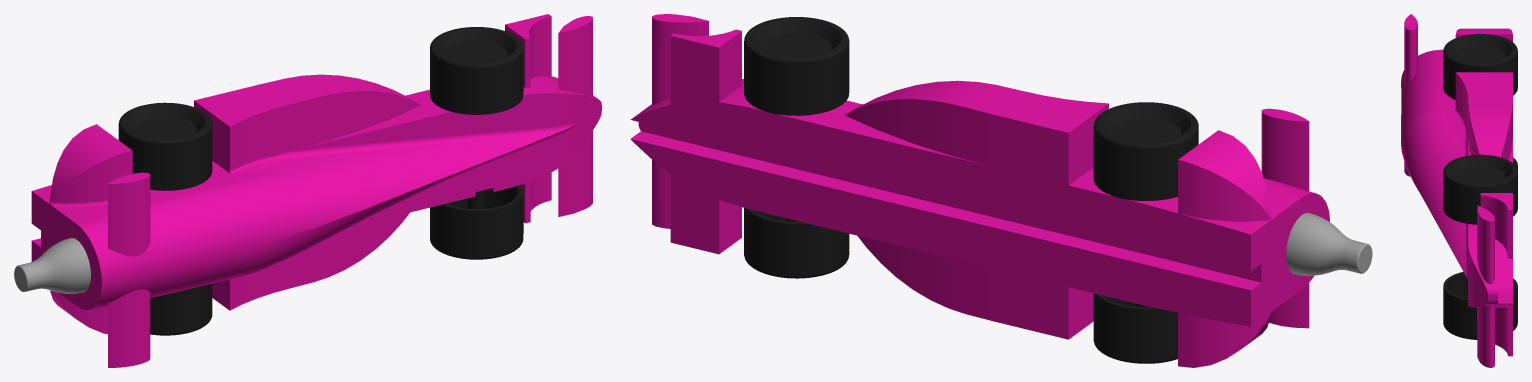
The model's file is 2 - Vega Dev Nationals.fbx.
3 views of the same model, side by side, from view 1: azimuth 30°, elevation 25°; view 2: azimuth 150°, elevation 25°; view 3: azimuth 270°, elevation 25° (orthographic). The views are drawn at different scales.
Parts seen in each view (by area): view 1: Body4, Body2 (×2), Body1; view 2: Body4, Body2 (×2), Body1; view 3: Body4, Body2 (×2).
Part boxes in pixels (bbox=[...]): Body4: bbox=[31, 14, 601, 367]; Body2 (×2): bbox=[118, 27, 523, 335]; Body1: bbox=[14, 237, 90, 293]; Body4: bbox=[631, 14, 1329, 367]; Body2 (×2): bbox=[744, 17, 1198, 363]; Body1: bbox=[1286, 212, 1372, 275]; Body4: bbox=[1401, 14, 1512, 367]; Body2 (×2): bbox=[1443, 34, 1517, 339].
Bounding box in the file's own units: 226 × 69 × 47.
